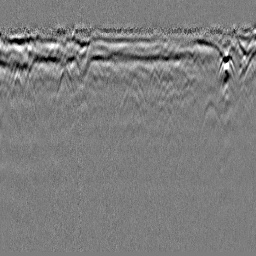cavity: (117, 86, 143, 119)
